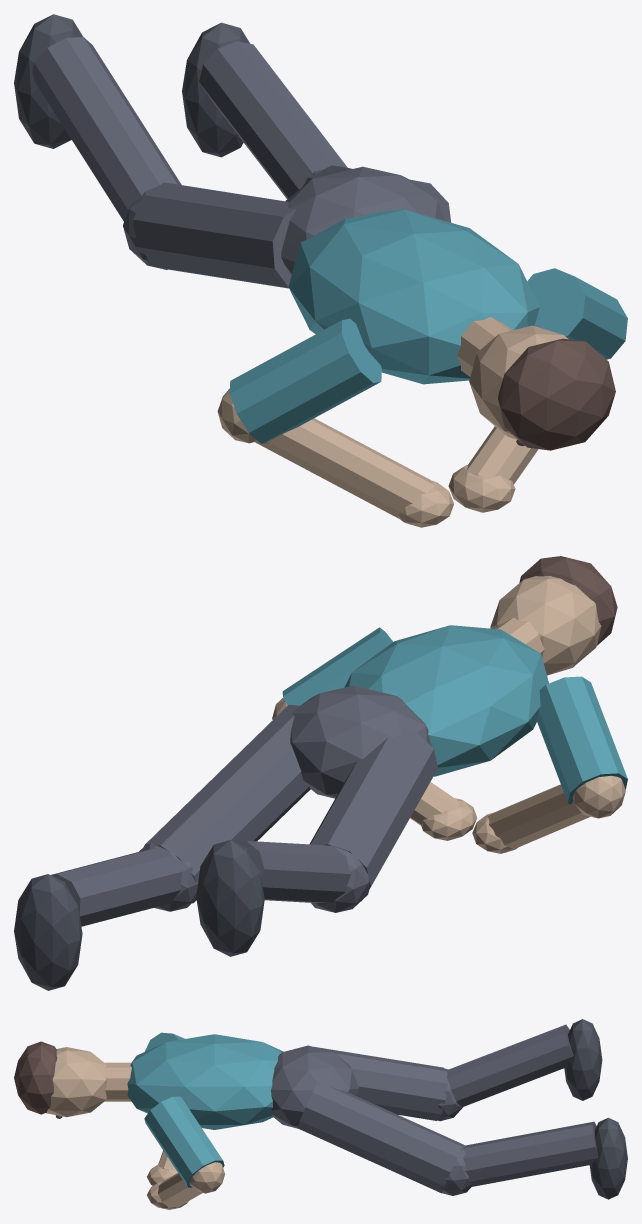
3 renders of one model, top to bottom at view 1: azimuth 30°, elevation 25°; view 2: azimuth 150°, elevation 25°; view 3: azimuth 270°, elevation 25°, orthographic. The views are drawn at different scales.
Visible parts, largest first — view 1: world; view 2: world; view 3: world.
Part boxes in pixels (x1,y1,x2,y2): world: (14, 14, 627, 527); world: (14, 556, 627, 990); world: (14, 1019, 627, 1209).
Bounding box in the file's own units: 0.93 × 0.5928 × 2.04.
